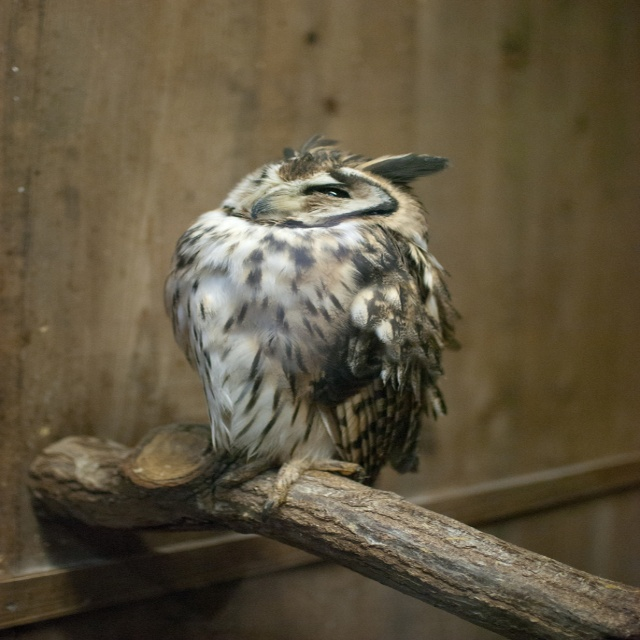Owl: (166, 139, 469, 508)
